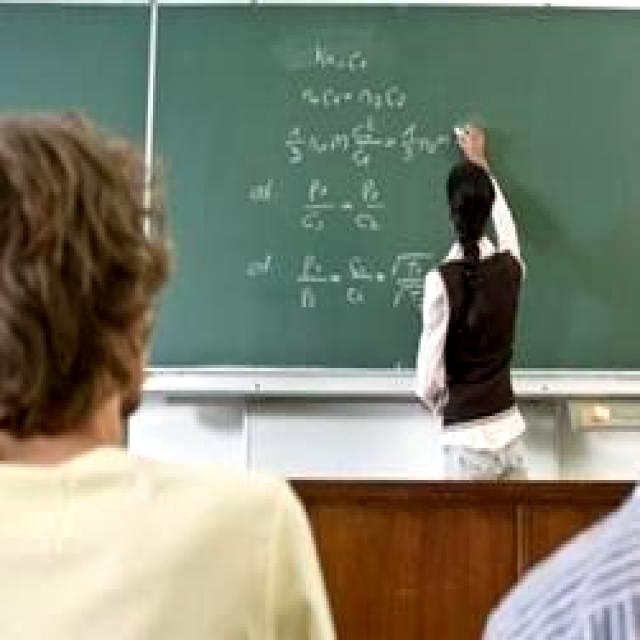no_head_wear: (0, 112, 171, 435), (446, 157, 492, 256)
person: (0, 115, 336, 637), (416, 157, 523, 474)
